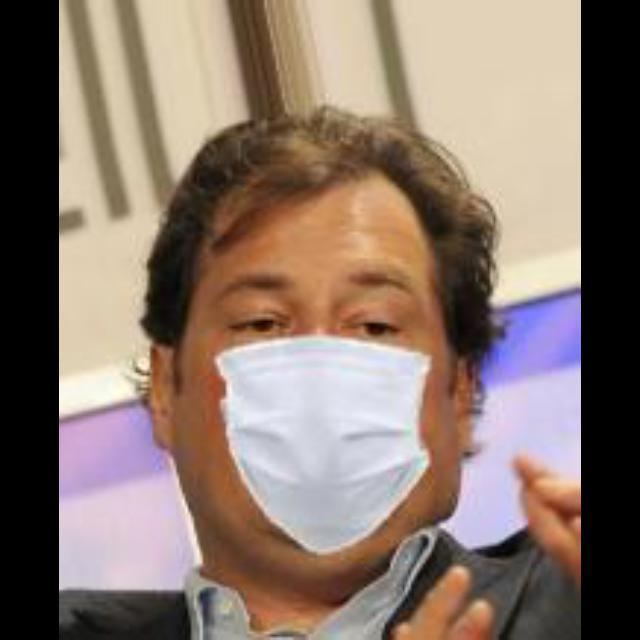suspicion: (149, 114, 521, 586)
